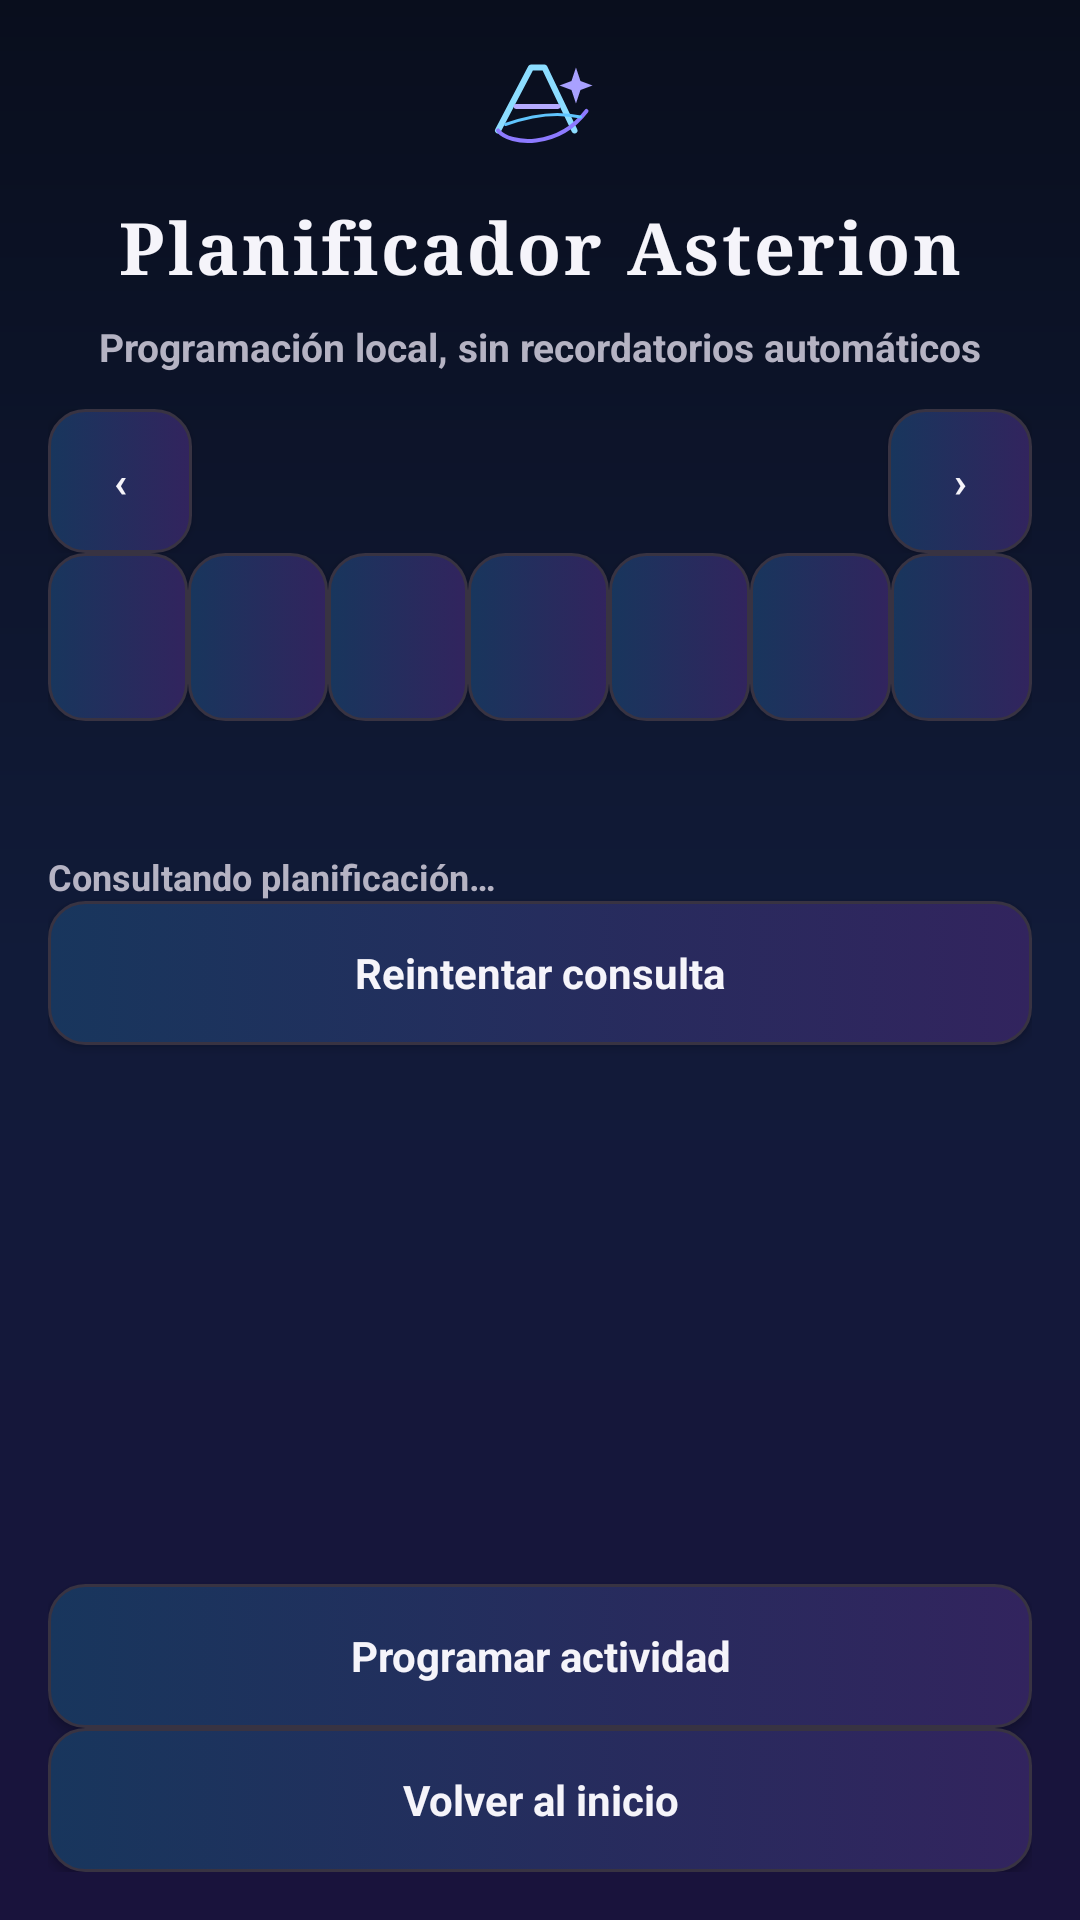

Where icons sit on this 1080x1920 app screen, as region(x1, y1, x2, y2):
asterion crest: region(495, 64, 593, 143)
